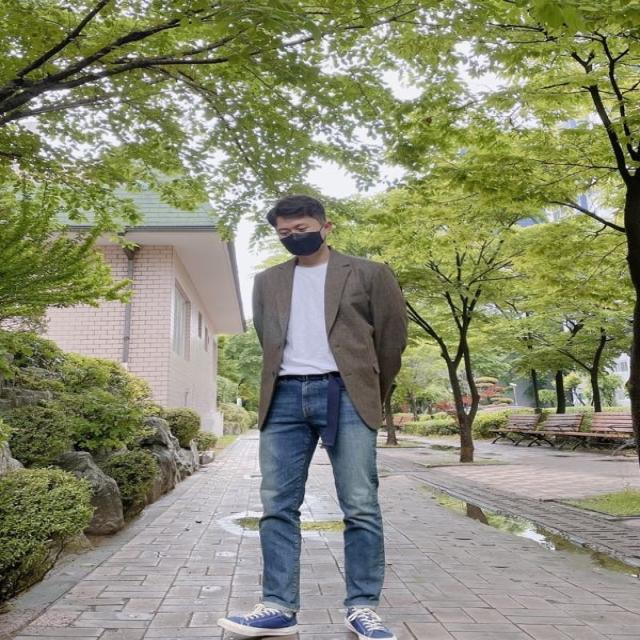blazer: (251, 248, 411, 430)
denimpants: (253, 371, 386, 610)
